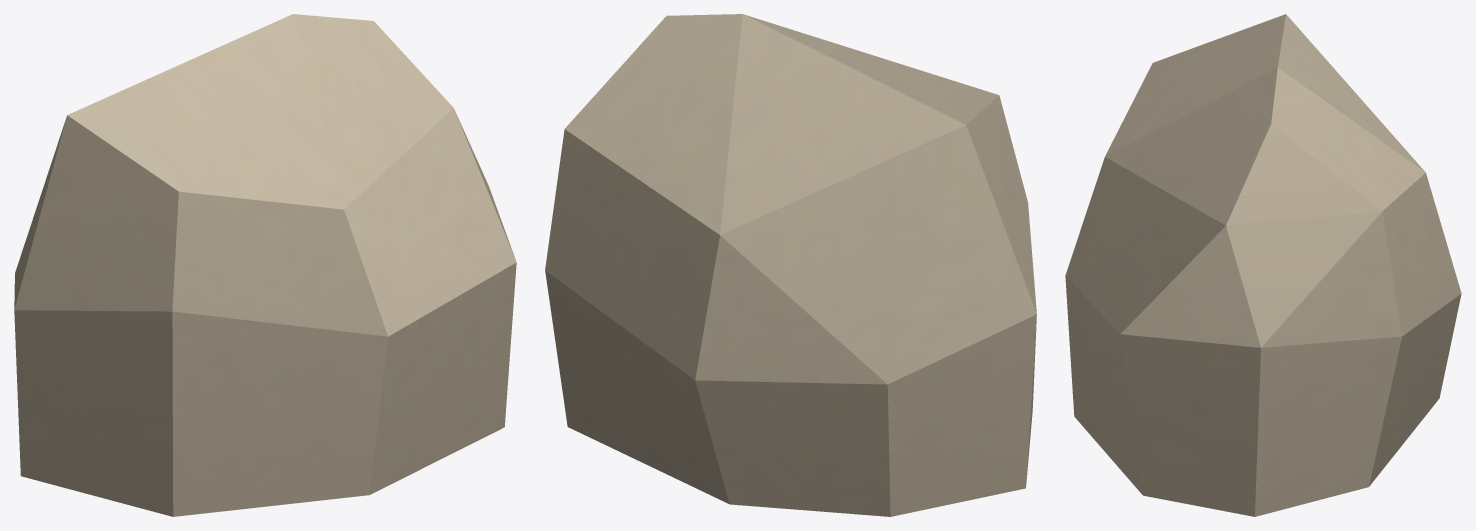
File: Rock_A.obj
3 views of the same model, side by side, from view 1: azimuth 30°, elevation 25°; view 2: azimuth 150°, elevation 25°; view 3: azimuth 270°, elevation 25° (orthographic). The views are drawn at different scales.
Parts seen in each view (by area): view 1: Rock_A; view 2: Rock_A; view 3: Rock_A.
Boxes of the visible parts, box(x1,y1,x2,y2) form: Rock_A: box(14, 14, 516, 516); Rock_A: box(545, 14, 1036, 516); Rock_A: box(1065, 14, 1461, 516).
Size of the model in its own units: 0.7982 by 0.6451 by 0.6298.
